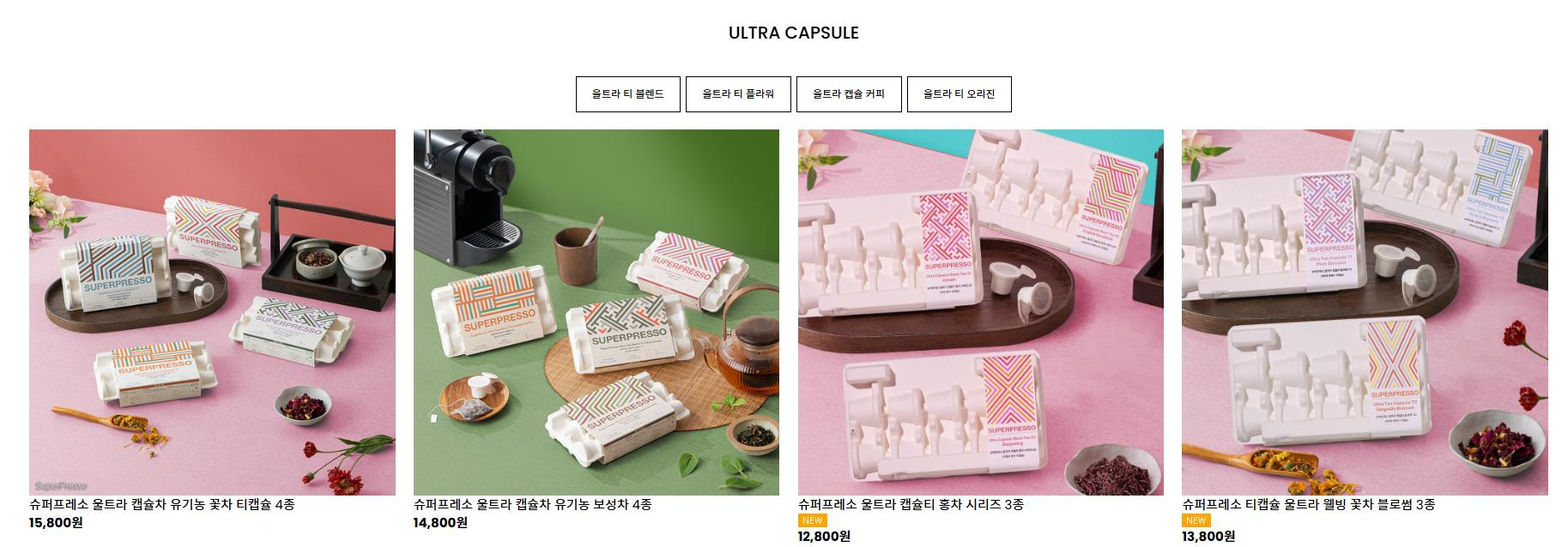button: (575, 78, 680, 114), (796, 79, 902, 113), (687, 78, 789, 113), (913, 78, 1010, 105)
